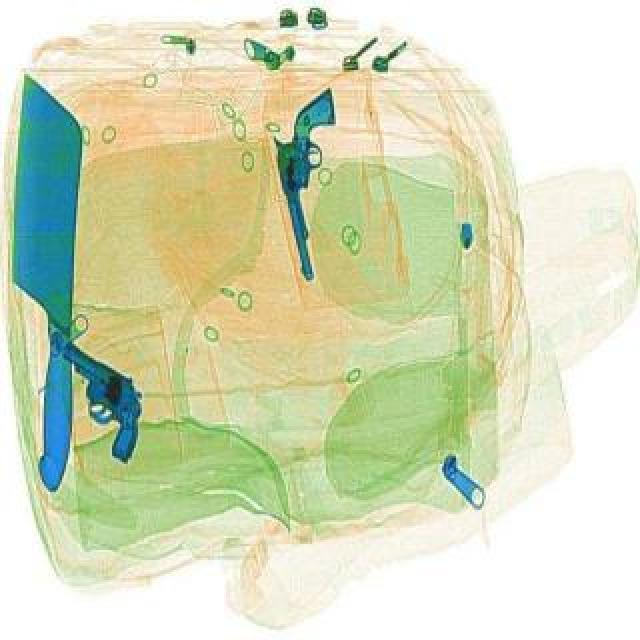gun: (262, 90, 370, 286), (24, 346, 172, 468)
knife: (0, 74, 84, 496)
